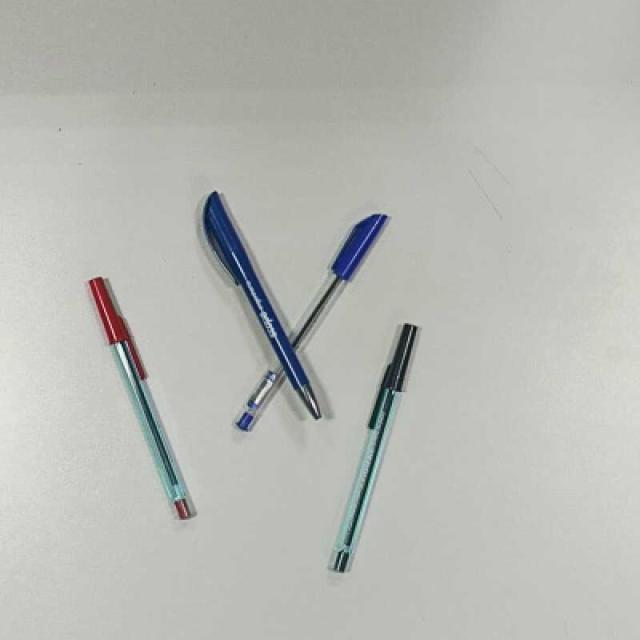caneta: (230, 205, 387, 434), (190, 190, 325, 427), (83, 274, 201, 522), (328, 321, 423, 575)
